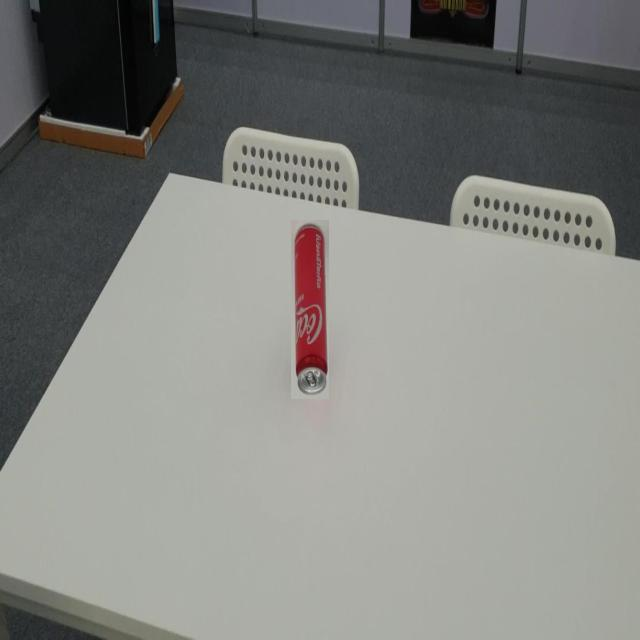coca-cola: (292, 220, 330, 399)
